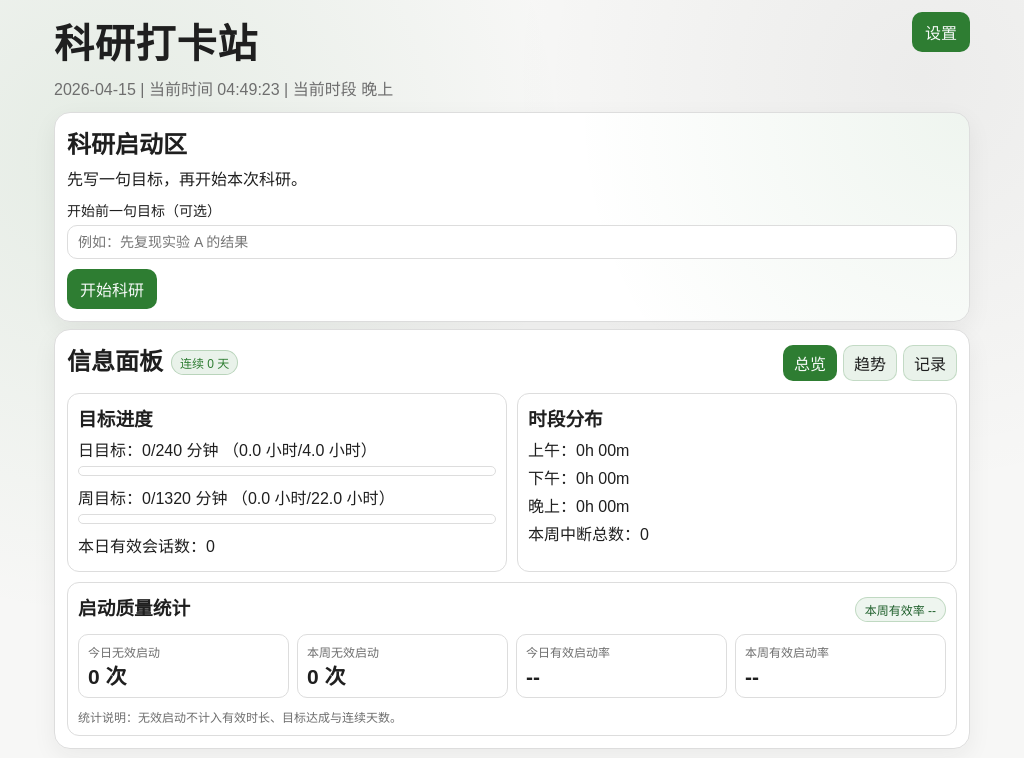
Test: App integration › allows ending session without selecting efficiency rating
Check: the heading "科研启动区" is shown, box [67, 131, 187, 158]
In the field with placeholder "例如：先复现实验 A 的结果": (512, 242) [67, 225, 957, 259], type "写作整理"
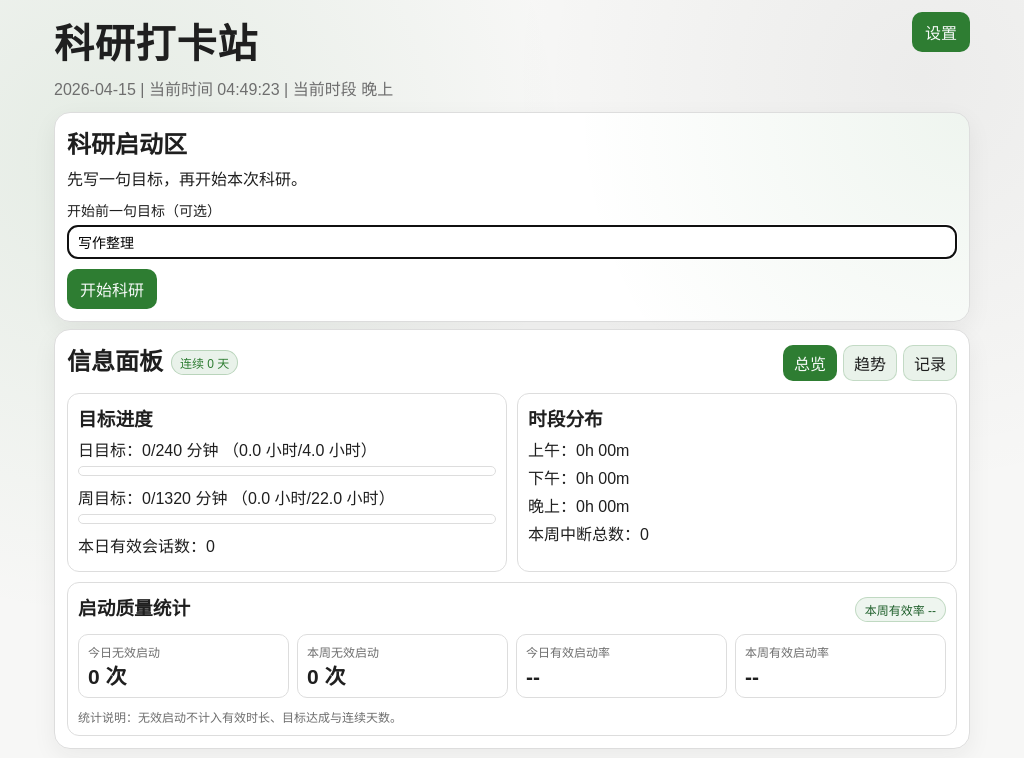
Click the button "开始科研": (112, 289) [67, 269, 157, 309]
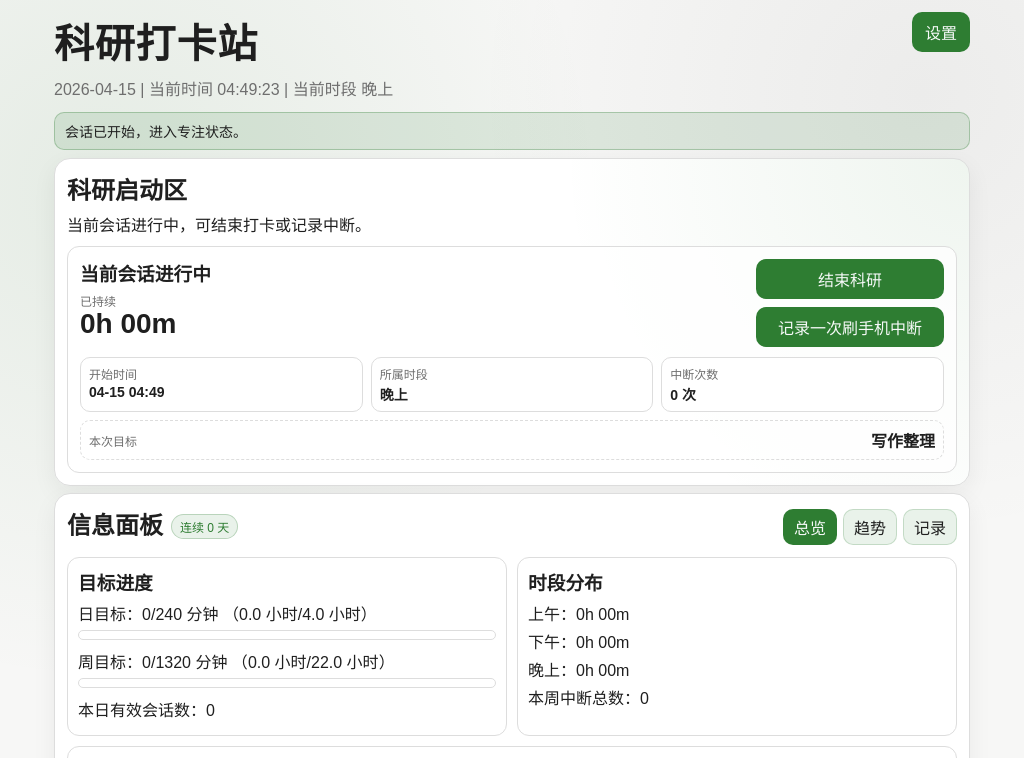
Check: the heading "当前会话进行中" is shown, box [80, 259, 211, 286]
Click the button "结束科研": (850, 279) [756, 259, 944, 299]
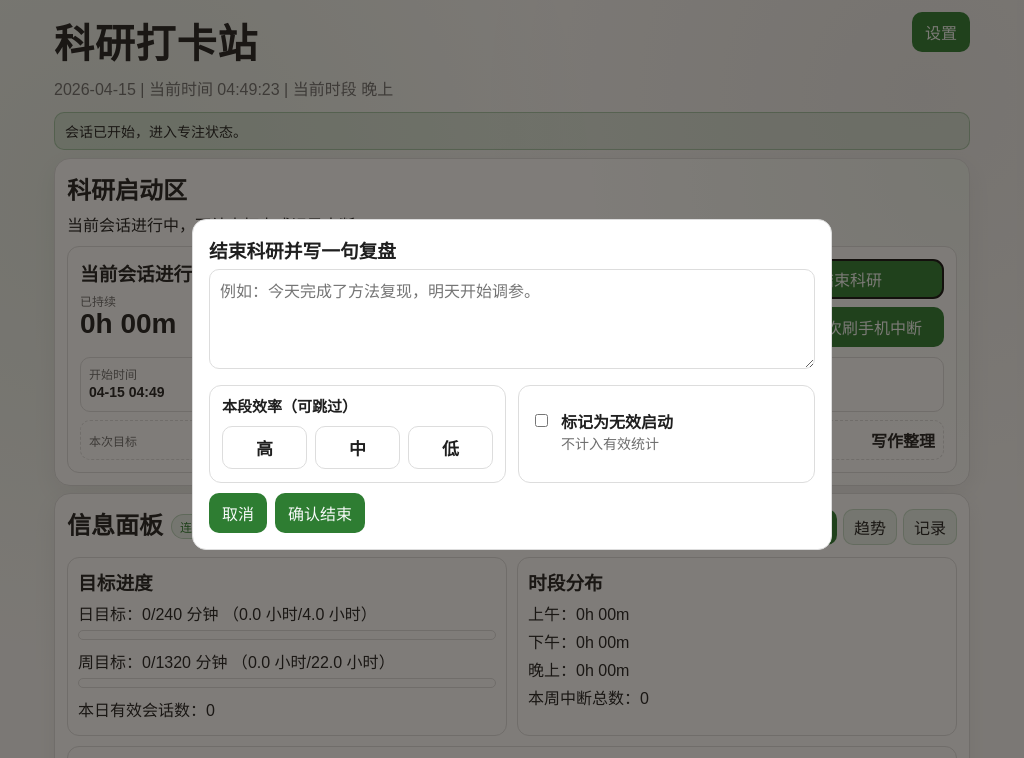
Check: the heading "结束科研并写一句复盘" is shown, box [209, 240, 396, 262]
Click the button "确认结束": (320, 512) [275, 492, 365, 532]
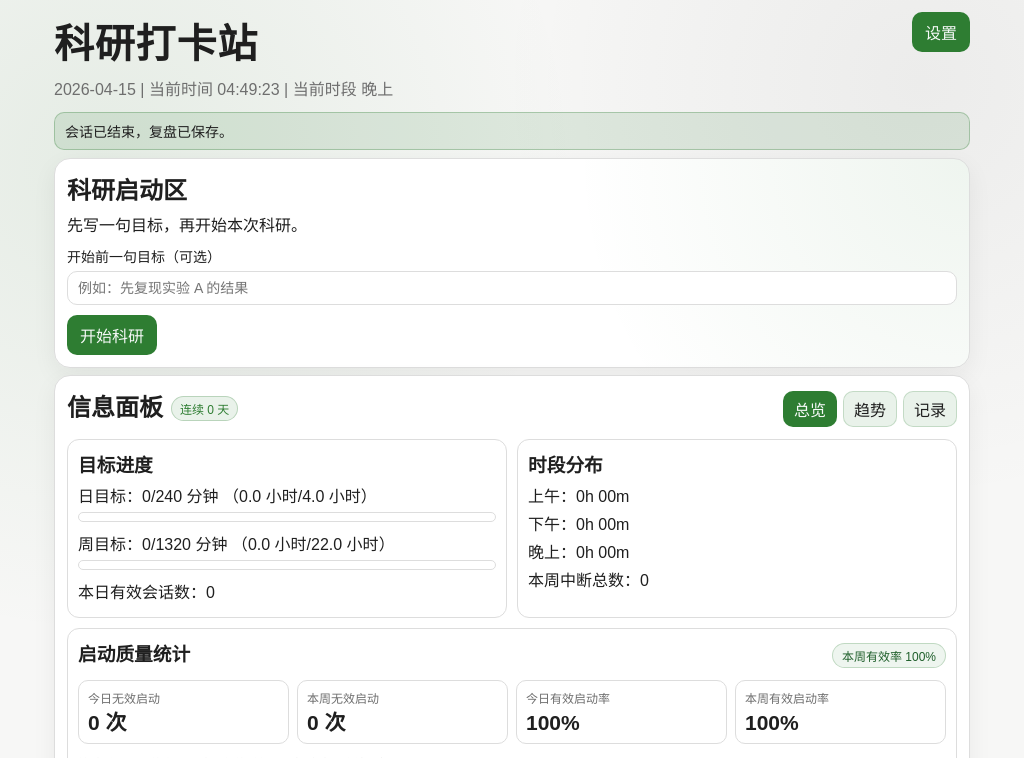
Check: the text "会话已结束，复盘已保存。" is shown, box [54, 112, 970, 150]
Click the tab "记录": (930, 408) [903, 390, 957, 426]
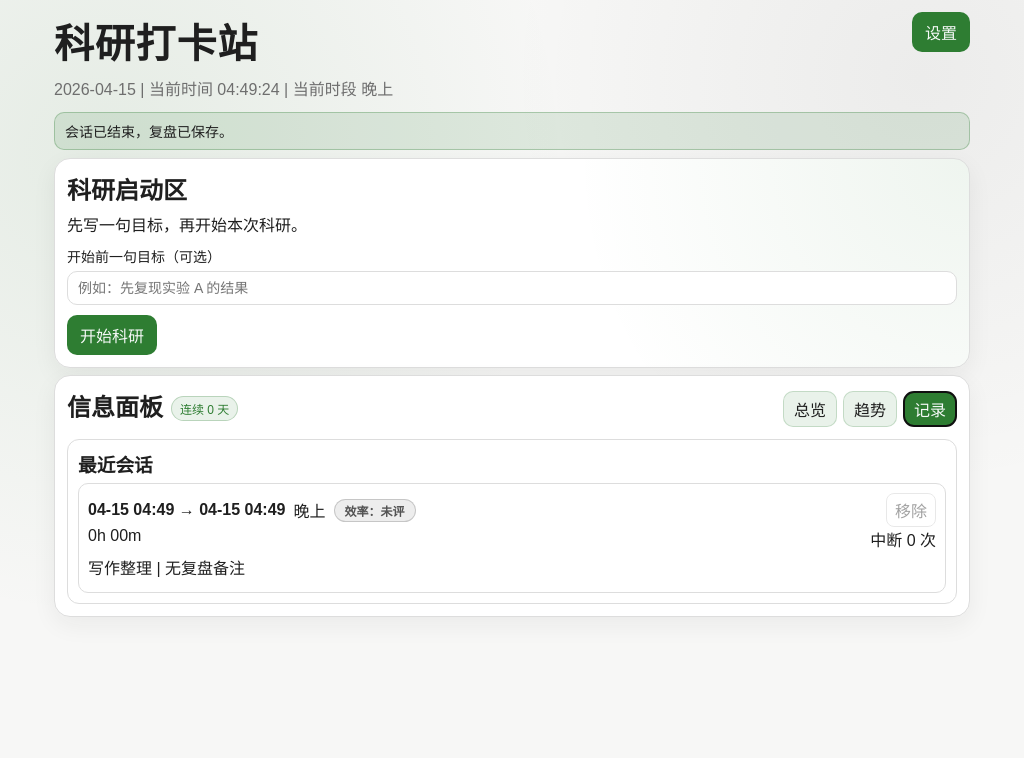
Check: the text "效率：未评" is shown, box [334, 498, 416, 522]
